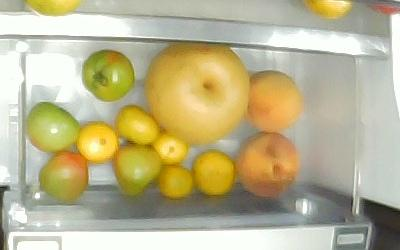peach: (233, 130, 299, 197), (243, 69, 301, 132)
pear: (143, 46, 251, 142)
tangerine: (190, 148, 235, 195), (113, 103, 159, 144), (75, 120, 119, 162), (149, 131, 188, 165), (157, 163, 193, 198)
tomato: (80, 48, 135, 101), (110, 140, 161, 197), (25, 100, 79, 153), (37, 149, 88, 200)
